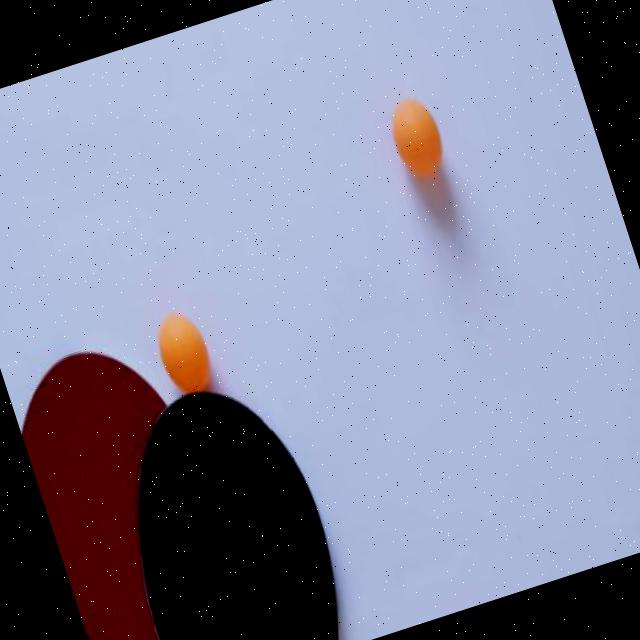ping-pong-ball: (148, 307, 215, 395), (382, 94, 448, 180)
